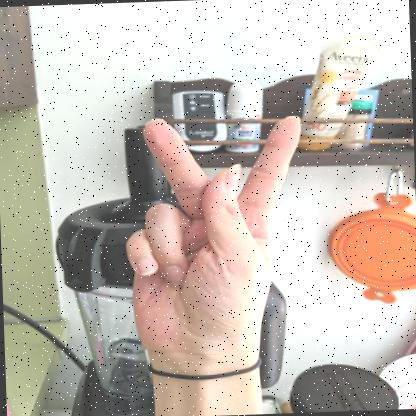K: (126, 116, 301, 367)
